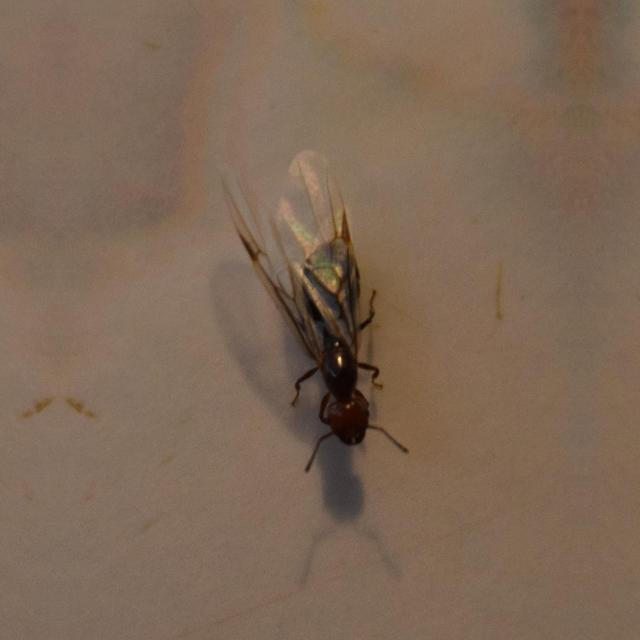Crematogaster: (212, 174, 396, 458)
